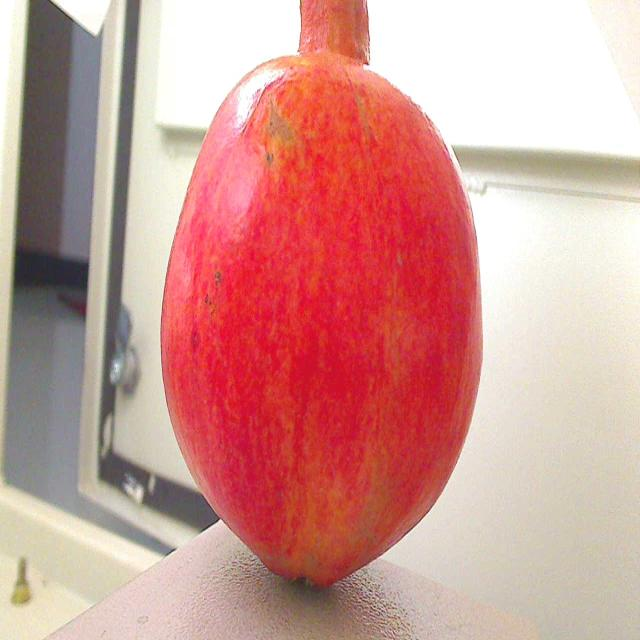pomegranate: (148, 0, 491, 603)
